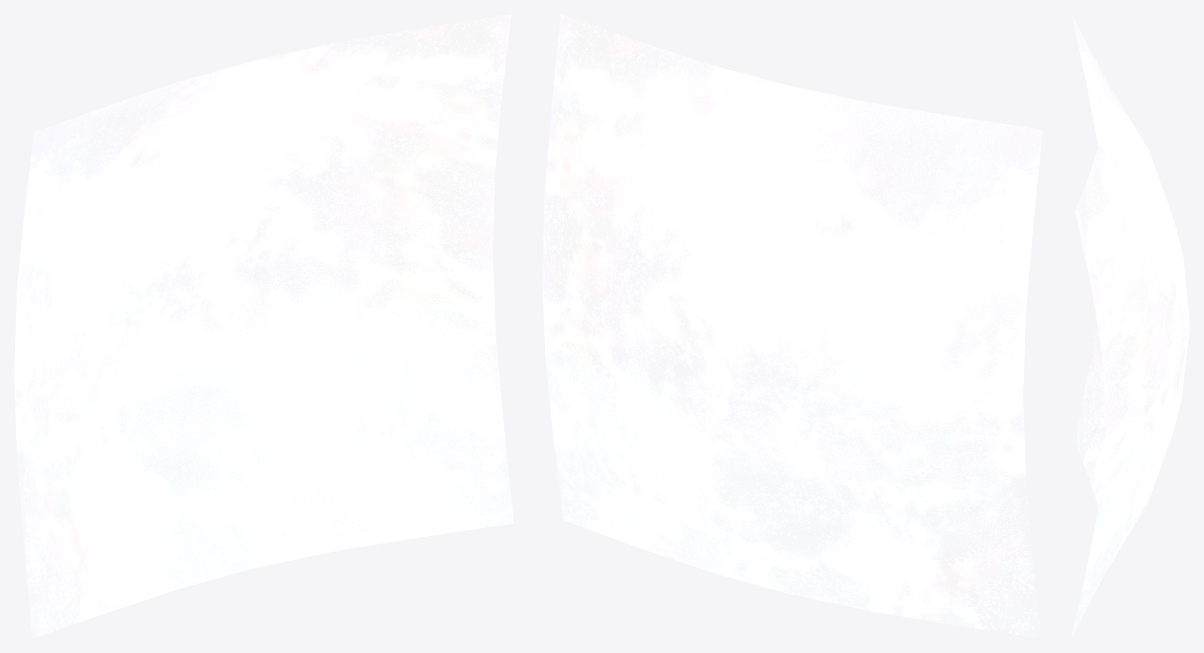
File: bg_terran3_3db.gltf
3 renders of one model, left to right at view 1: azimuth 30°, elevation 25°; view 2: azimuth 150°, elevation 25°; view 3: azimuth 270°, elevation 25°, orthographic. The views are drawn at different scales.
Parts seen in each view (by area): view 1: bg_terran3.3db; view 2: bg_terran3.3db; view 3: bg_terran3.3db.
Part boxes in pixels (x1,y1,x2,y2): bg_terran3.3db: (14,14,513,638); bg_terran3.3db: (542,14,1042,638); bg_terran3.3db: (1071,15,1189,637).
Bounding box in the file's own units: 73.75 × 74.6 × 18.8.
4 materials, 4 textured.
